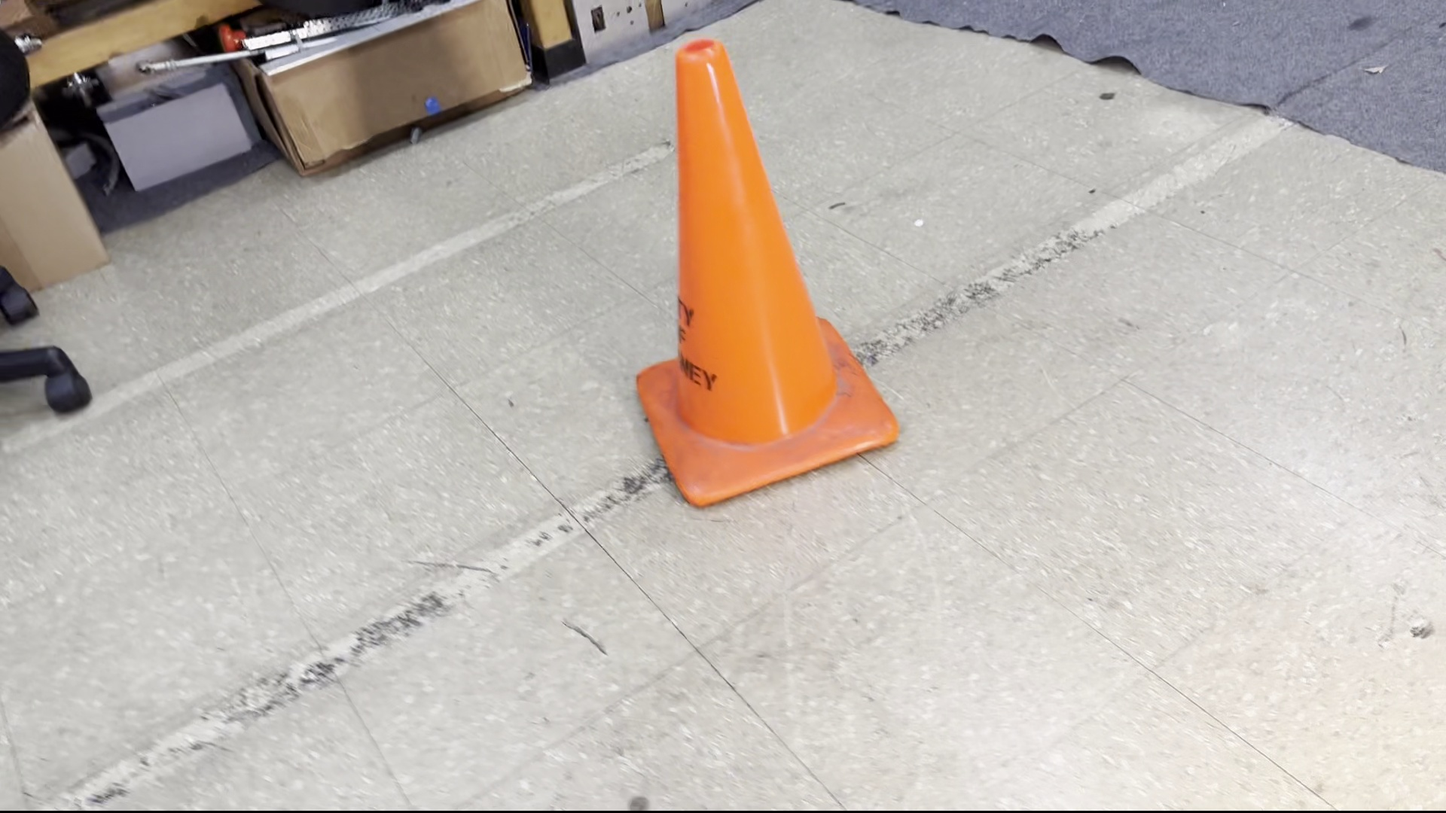traffic_cone: (635, 37, 900, 509)
